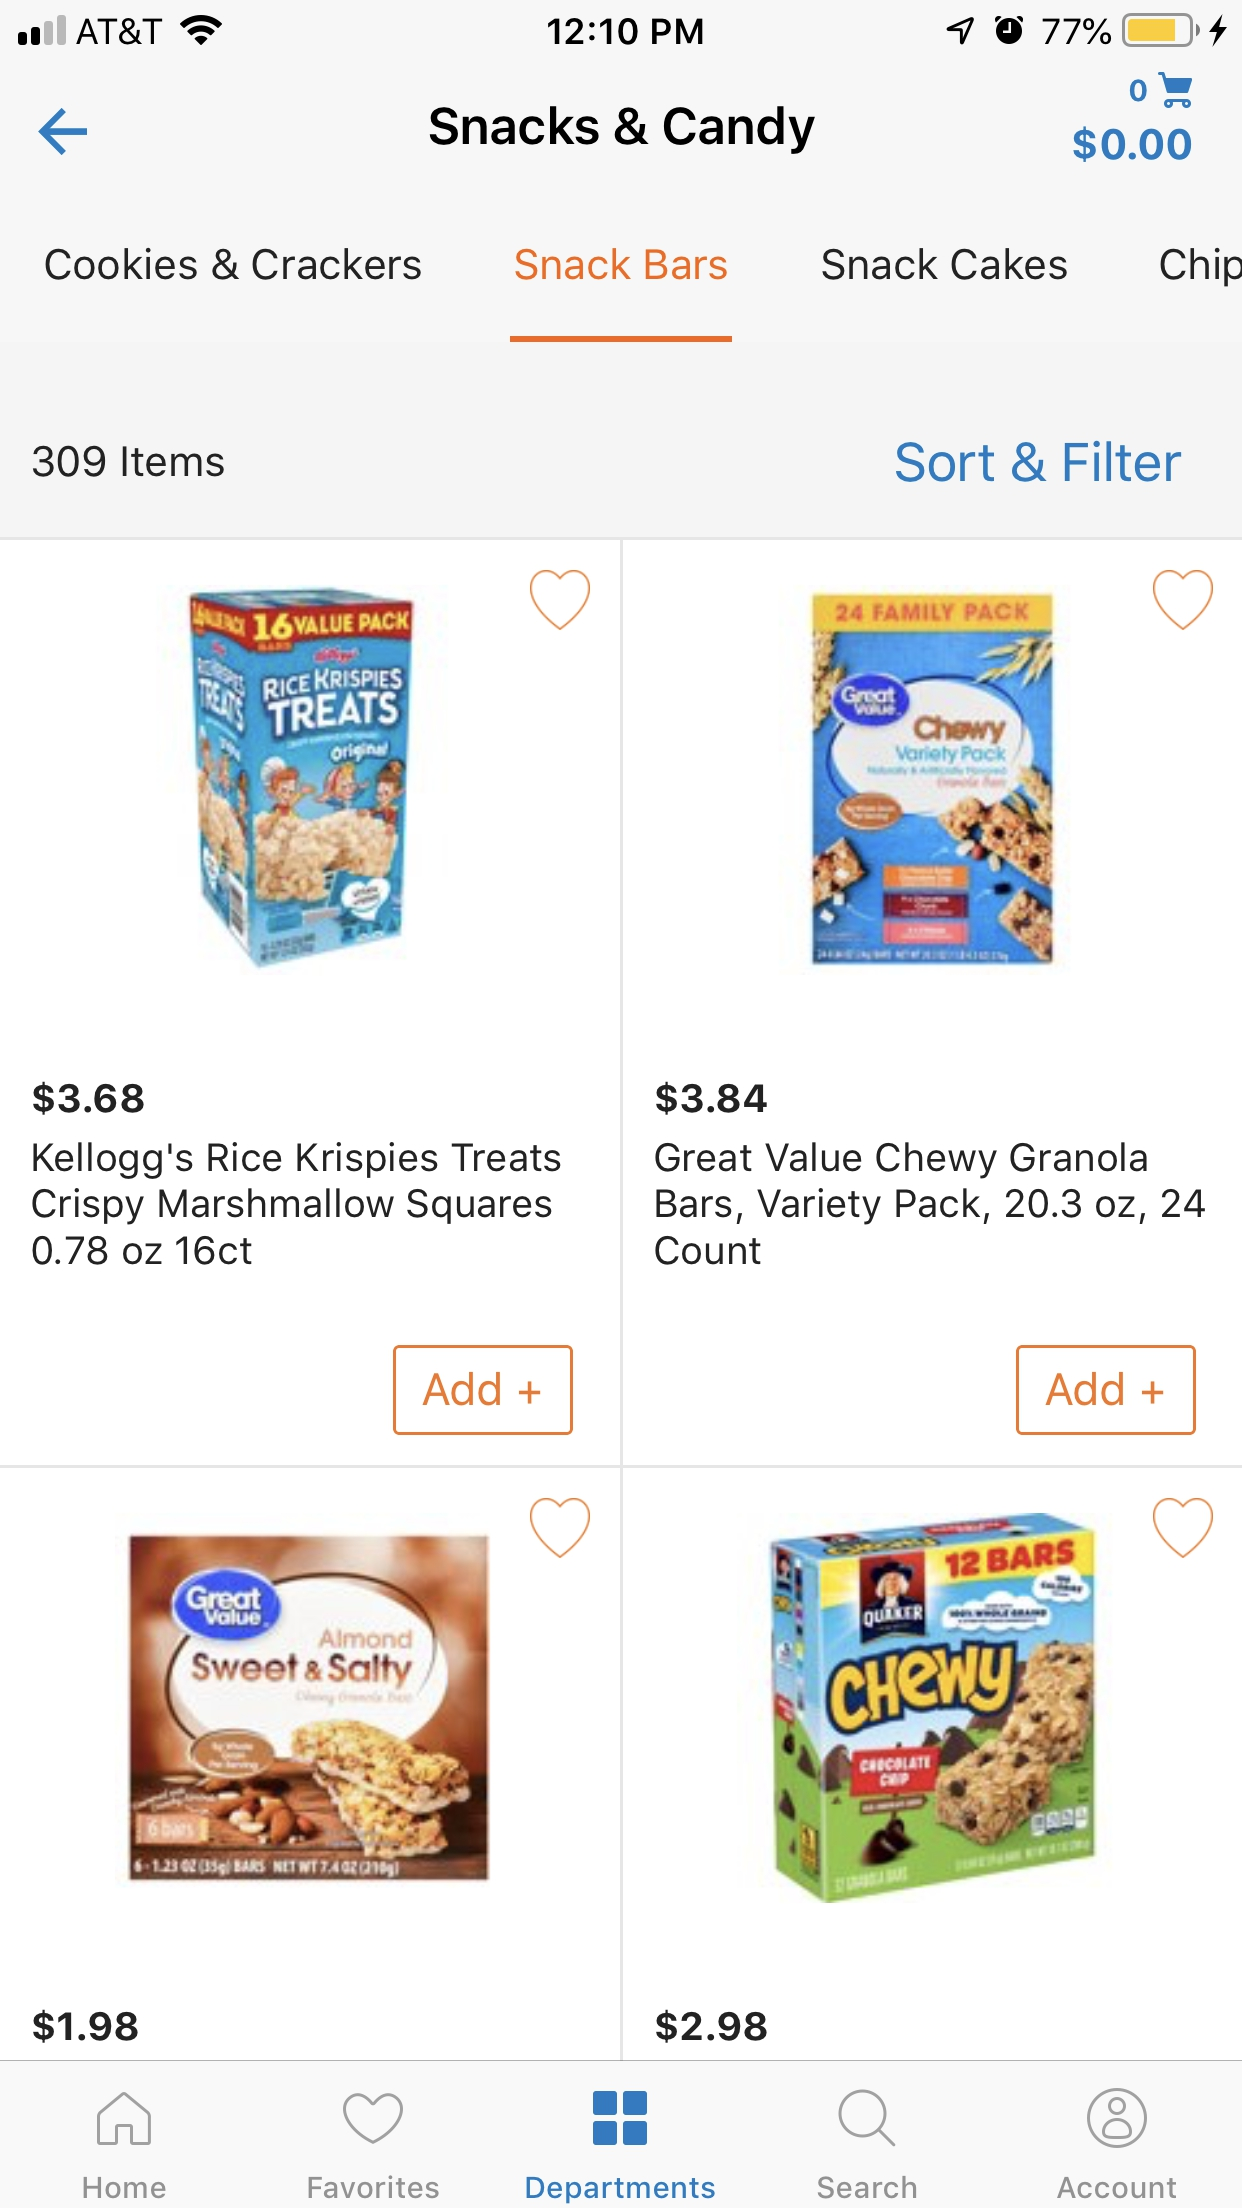Icon: (529, 570, 591, 632), (1153, 570, 1215, 632), (529, 1497, 591, 1559), (1153, 1497, 1215, 1559), (1086, 2088, 1148, 2149), (839, 2090, 898, 2147), (343, 2093, 405, 2144), (593, 2090, 649, 2146), (97, 2091, 153, 2146), (39, 108, 89, 158), (1157, 71, 1192, 111)
Image: (773, 1512, 1096, 1905), (127, 1535, 490, 1880), (811, 593, 1054, 968), (199, 588, 416, 971)
Text: (655, 1142, 1206, 1266), (33, 1140, 563, 1266), (429, 106, 816, 156), (45, 249, 423, 282), (895, 441, 1181, 484), (820, 249, 1068, 282), (516, 249, 728, 282), (33, 444, 226, 478), (526, 2175, 716, 2205), (1072, 126, 1192, 164), (33, 1081, 146, 1116), (655, 1081, 767, 1116), (655, 2009, 767, 2044), (33, 2008, 140, 2044), (1159, 247, 1242, 288), (308, 2175, 440, 2199), (1055, 2176, 1177, 2199), (817, 2175, 917, 2200), (83, 2176, 168, 2200), (1128, 79, 1146, 103)
TextButton: (393, 1344, 575, 1436), (1016, 1345, 1197, 1436)
UpperTaskBar: (2, 2, 1242, 49)
